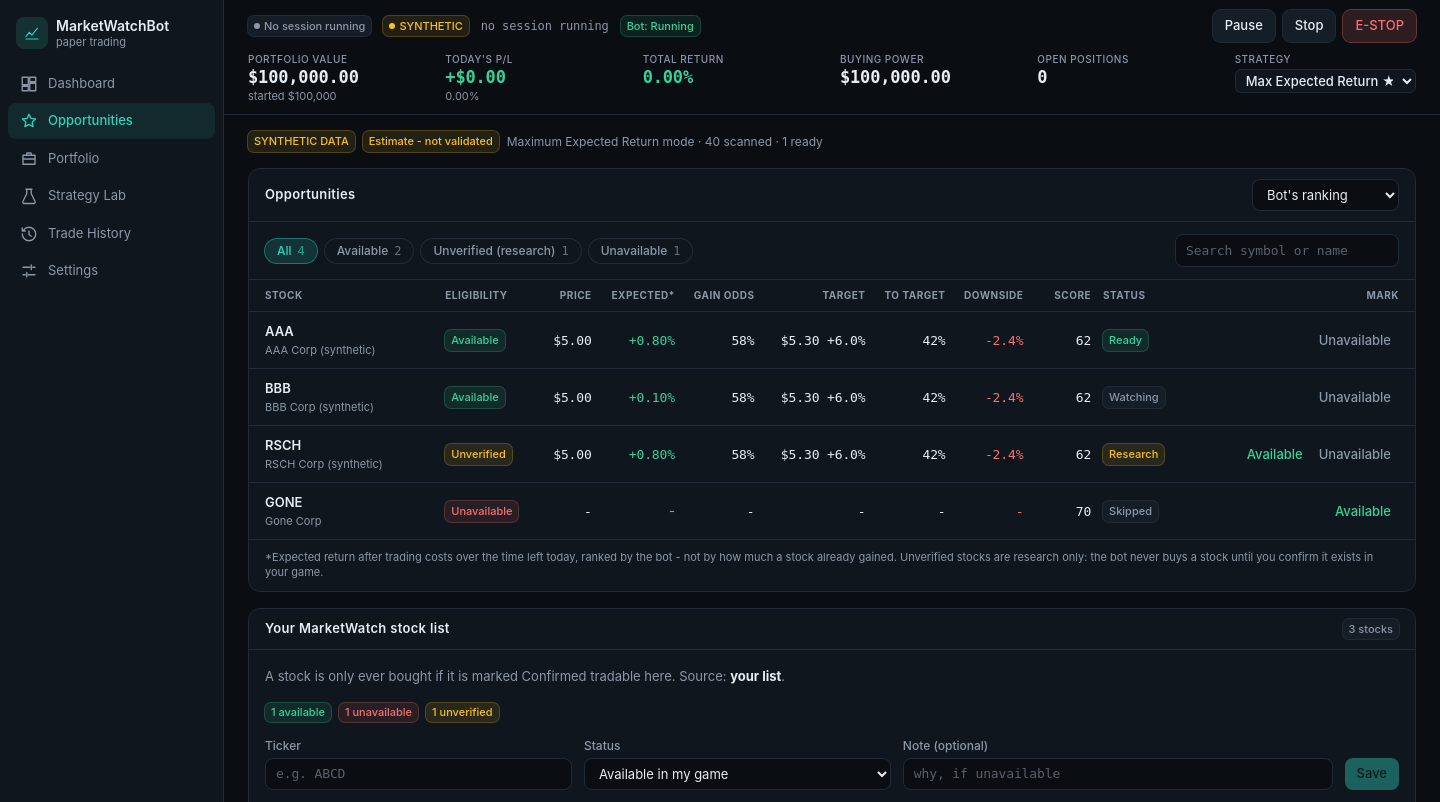
Test: opportunities and eligibility › explanation of a ready stock shows plan, checks and says the estimate is not validated
Click the cell named "Explain AAA" at (347, 340), box left=249, top=312, right=445, bottom=369
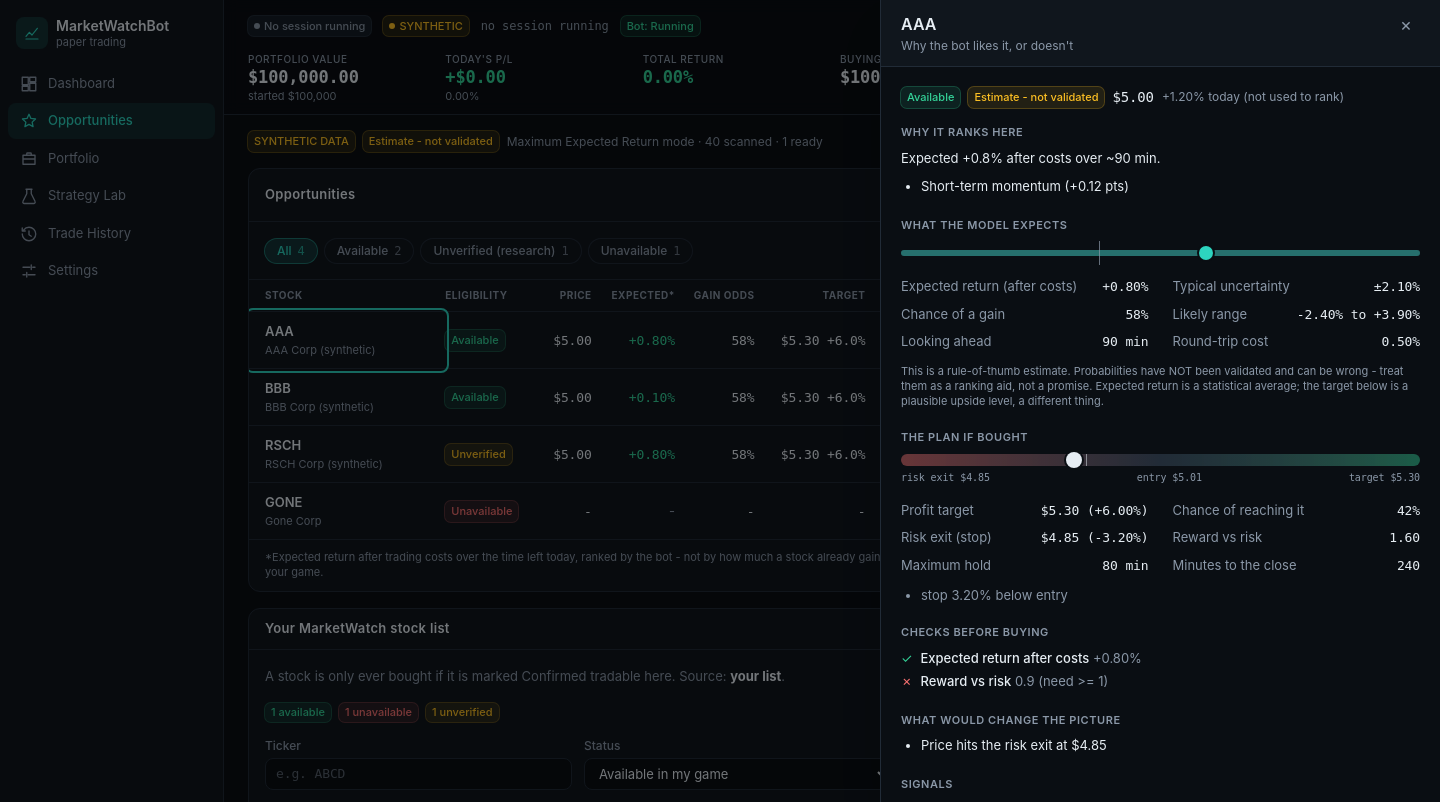
Expected: the heading "The plan if bought" is shown, left=901, top=430, right=1028, bottom=444
Expected: the text "NOT been validated" is shown, left=901, top=364, right=1404, bottom=393
Expected: the heading "What would change the picture" is shown, left=901, top=713, right=1121, bottom=727
